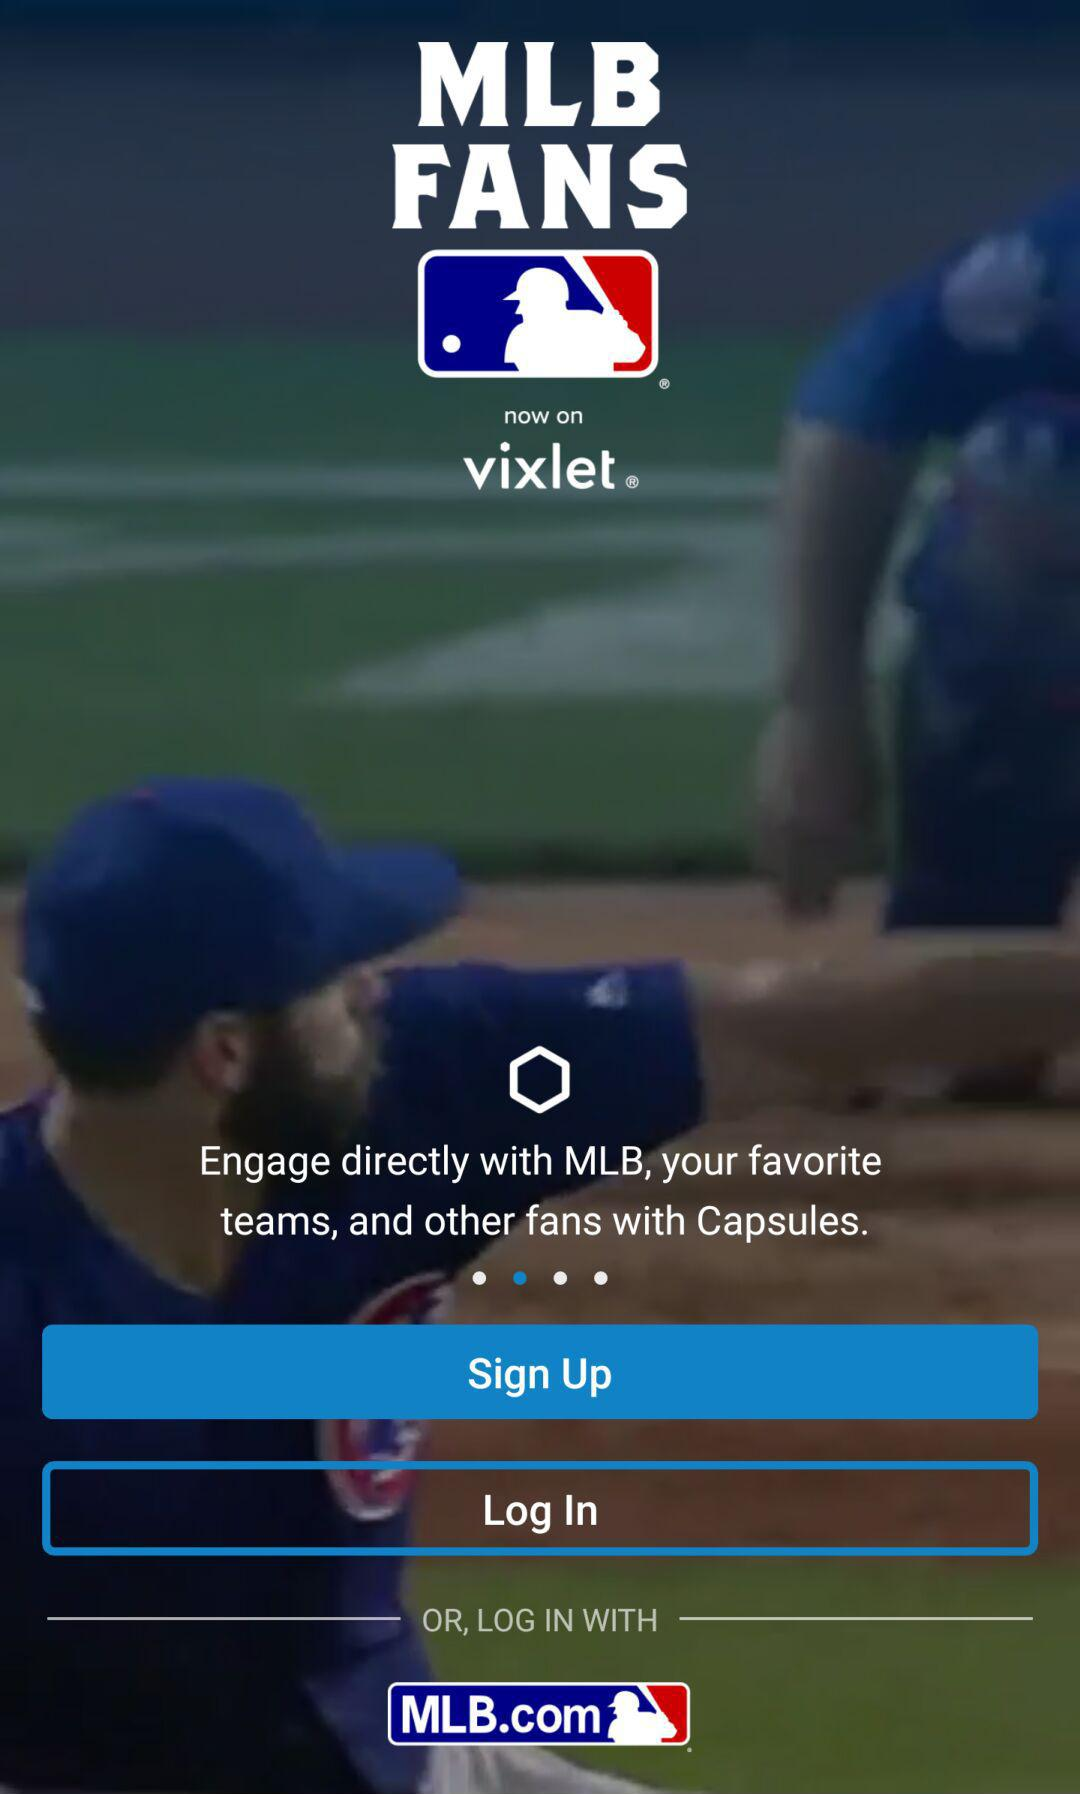BackgroundImage: (1, 1, 1080, 1794)
Image: (391, 41, 689, 390), (388, 1681, 691, 1747), (461, 441, 641, 493), (509, 1044, 571, 1116)
PageIndicator: (471, 1269, 611, 1288)
Text: (200, 1143, 881, 1242), (421, 1606, 659, 1636), (503, 410, 584, 425)
TextButton: (42, 1324, 1039, 1421), (42, 1460, 1039, 1557)
